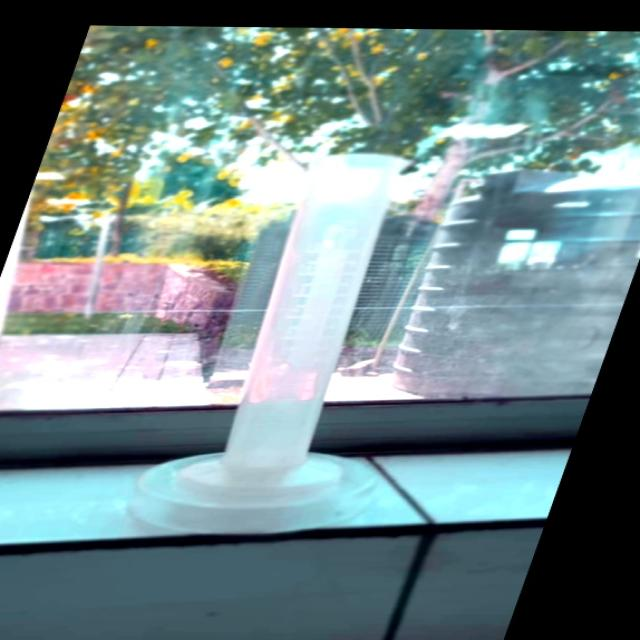Measuring Cylinder: (146, 149, 448, 509)
